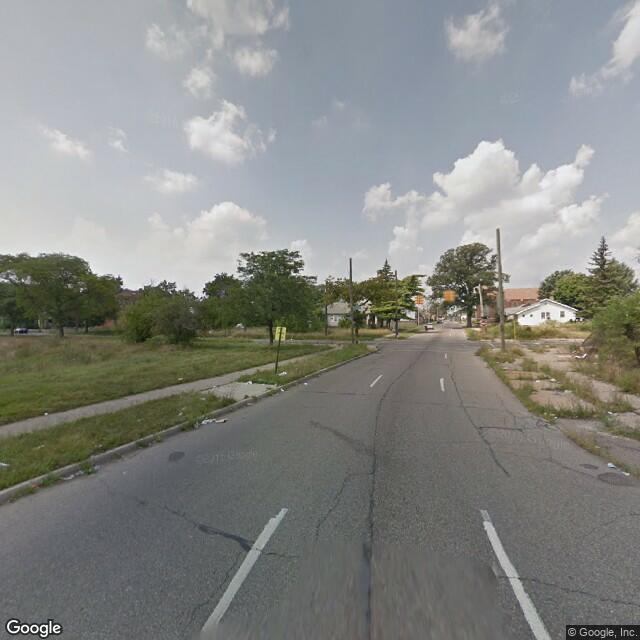litter: (198, 416, 233, 426), (542, 408, 560, 421), (55, 473, 88, 480), (573, 351, 596, 360), (1, 454, 11, 470), (603, 408, 622, 416), (273, 371, 293, 378), (606, 459, 621, 468), (41, 408, 50, 423), (563, 385, 576, 395), (303, 378, 314, 386), (31, 446, 48, 451), (246, 378, 258, 385), (92, 444, 106, 450), (174, 410, 184, 418), (175, 376, 185, 383), (533, 378, 543, 385), (276, 389, 287, 393), (550, 377, 558, 381)
